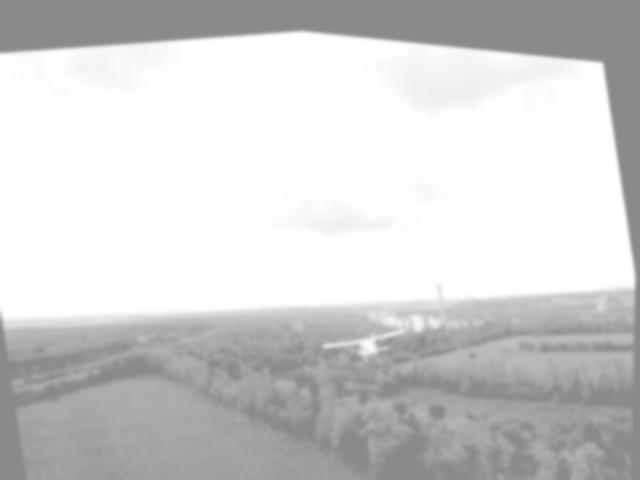hedef: (322, 300, 405, 370)
